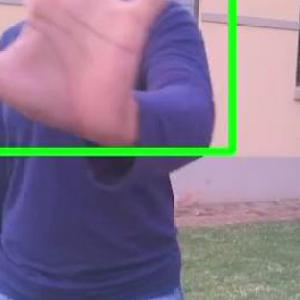follow_hand: (1, 0, 198, 148)
